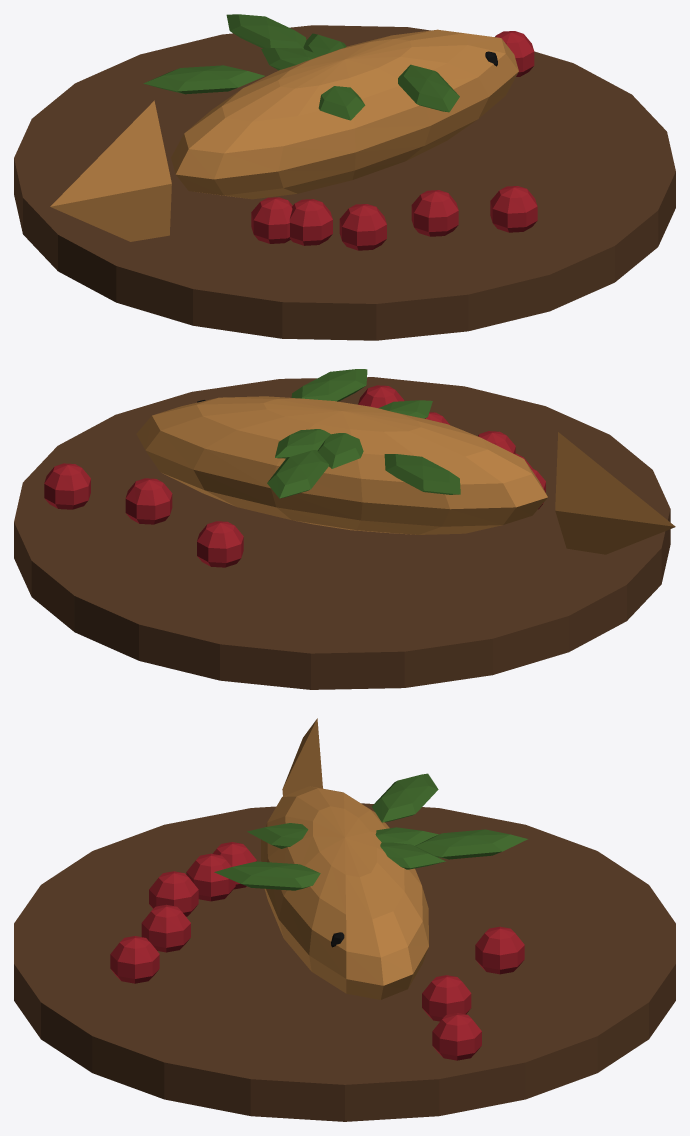
File: VFP_Food_HerbFish.obj
3 renders of one model, top to bottom at view 1: azimuth 30°, elevation 25°; view 2: azimuth 150°, elevation 25°; view 3: azimuth 270°, elevation 25°, orthographic.
Visible parts, largest first — view 1: Board, Fish, Berries, Leaves; view 2: Board, Fish, Leaves, Berries; view 3: Board, Fish, Berries, Leaves.
Boxes of the visible parts, x1,y1,x2,y2 form: Board: [14, 25, 675, 340]; Fish: [50, 29, 518, 241]; Berries: [251, 31, 537, 250]; Leaves: [143, 14, 459, 120]; Board: [14, 377, 670, 689]; Fish: [136, 396, 675, 554]; Leaves: [267, 369, 460, 498]; Berries: [44, 385, 545, 567]; Board: [14, 803, 675, 1121]; Fish: [261, 718, 428, 999]; Berries: [110, 842, 524, 1060]; Leaves: [214, 773, 527, 890].
Bounding box in the file's own units: 0.378 × 0.0963 × 0.3564.
